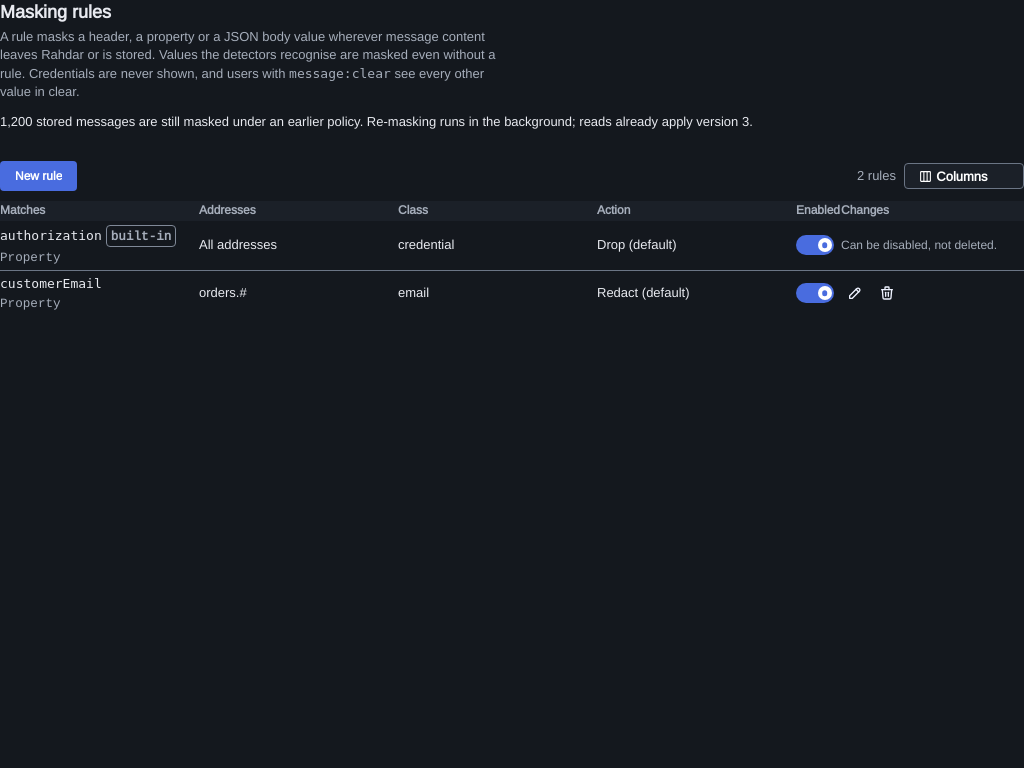
Test: RulesPanel › arms delete only on the typed name, and escape dismisses the dialog from the keyboard
Step 1. Click the button named "Delete the rule for customerEmail" → {"x": 887, "y": 293}, box [873, 279, 901, 307]
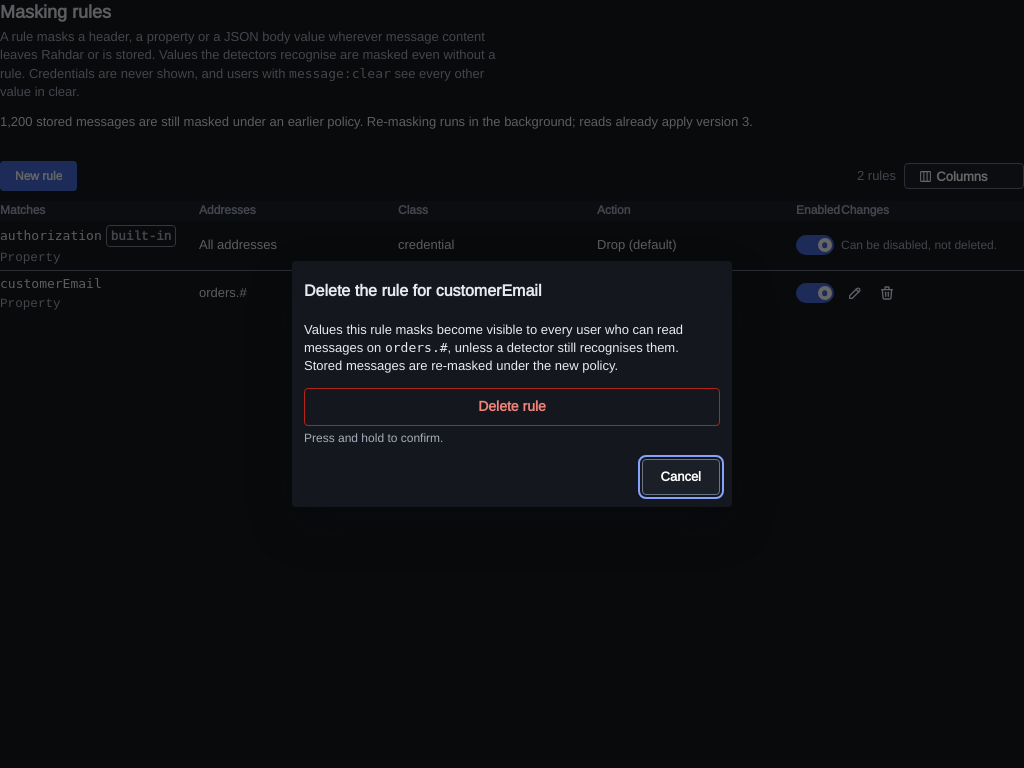
Now the dialog "Delete the rule for customerEmail" shows "Values this rule masks become visible", box [304, 321, 683, 356]
Now the button "Delete rule Delete rule" is enabled, box [304, 388, 720, 426]
Step 2. Press Escape
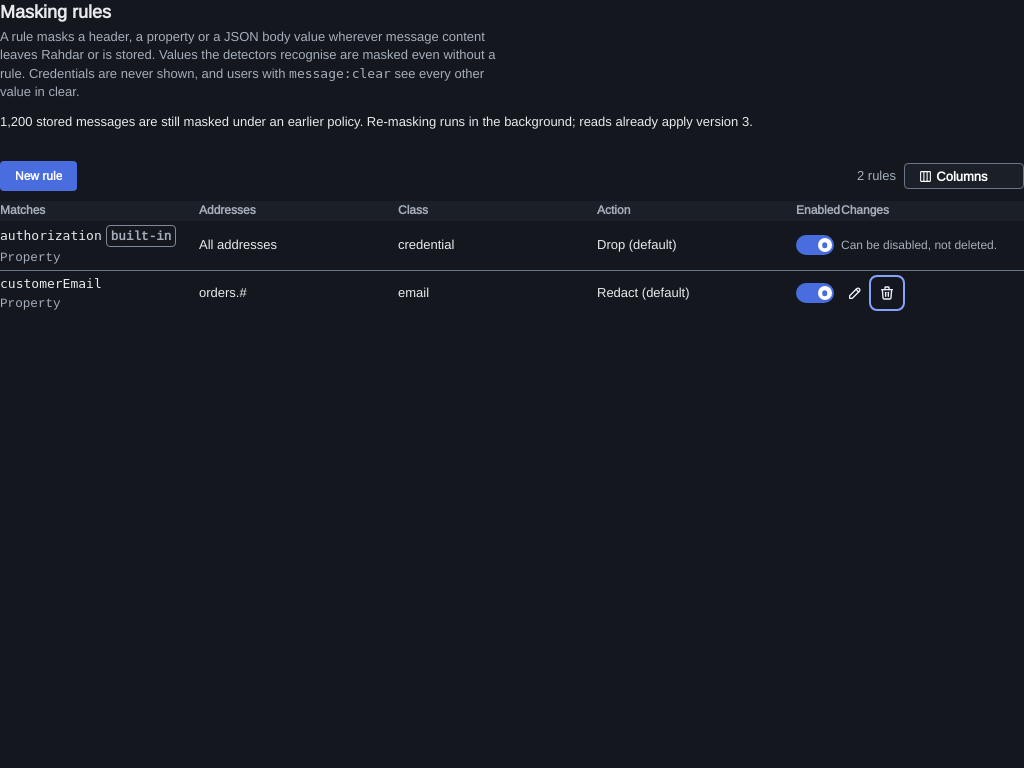
Now the dialog is gone
